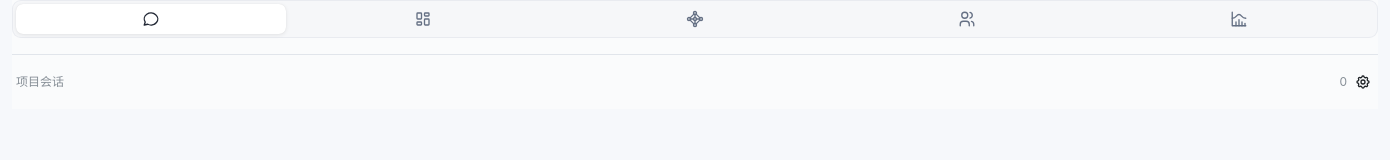
Test: Sidebar project catalog wiring › keeps navigation usable if gateway usage is unavailable
This screenshot has width=1390, height=160.
Hover over the link named "统计" at (1239, 19), box [1230,10,1248,28]
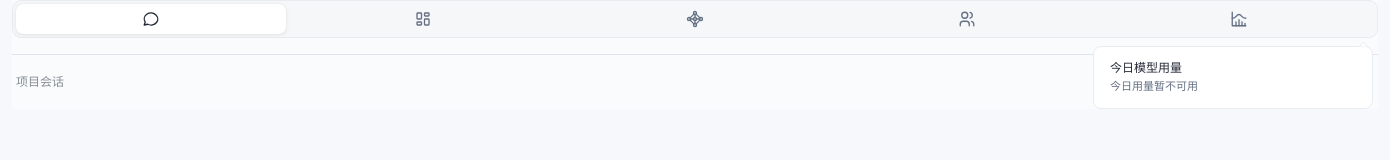
Check: the link named "会话" is shown, box [16,4,286,34]
Check: the text "今日用量暂不可用" is shown, box [1110,79,1198,93]
